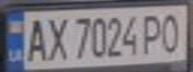0: (90, 12, 109, 60)
2: (106, 12, 124, 59)
4: (121, 11, 142, 57)
7: (69, 12, 93, 61)
A: (21, 15, 48, 63)
O: (157, 10, 187, 54)
P: (139, 10, 169, 55)
X: (42, 12, 69, 62)
